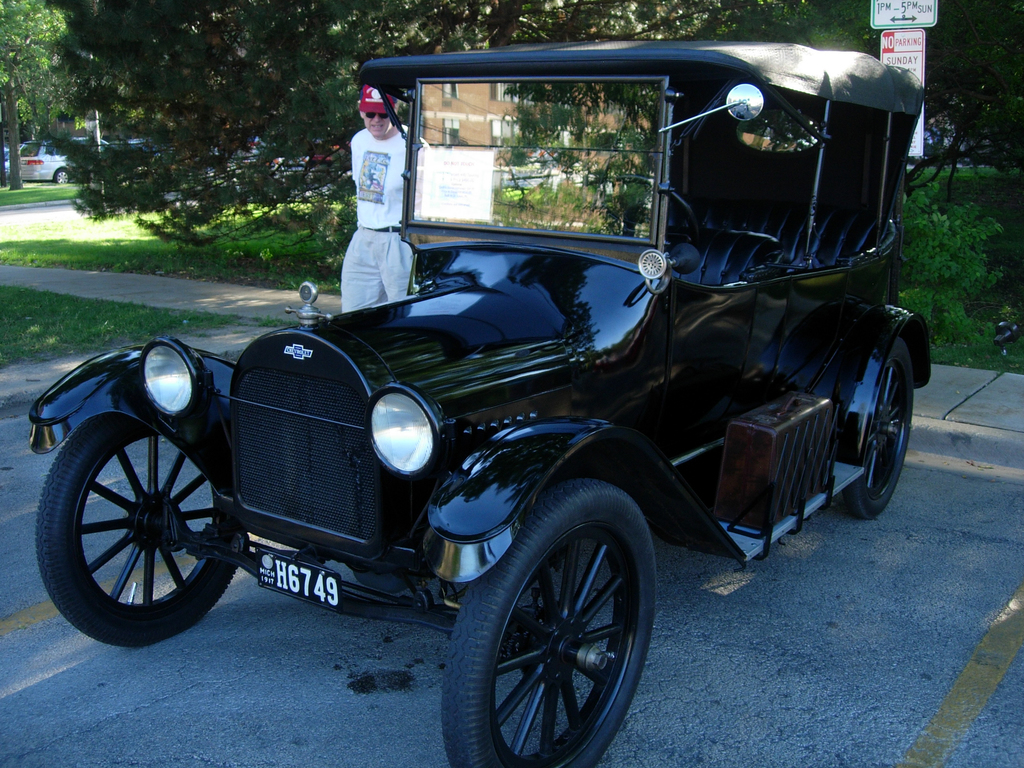Tree: (0, 0, 1024, 347)
